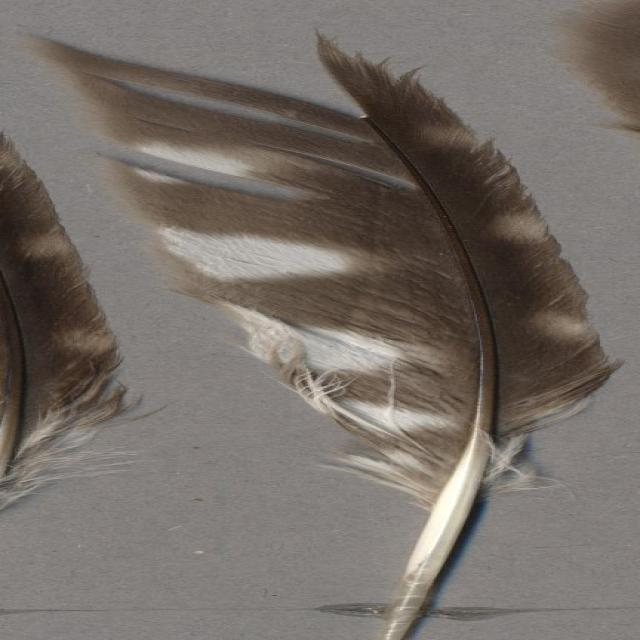feather: (24, 35, 640, 640)
